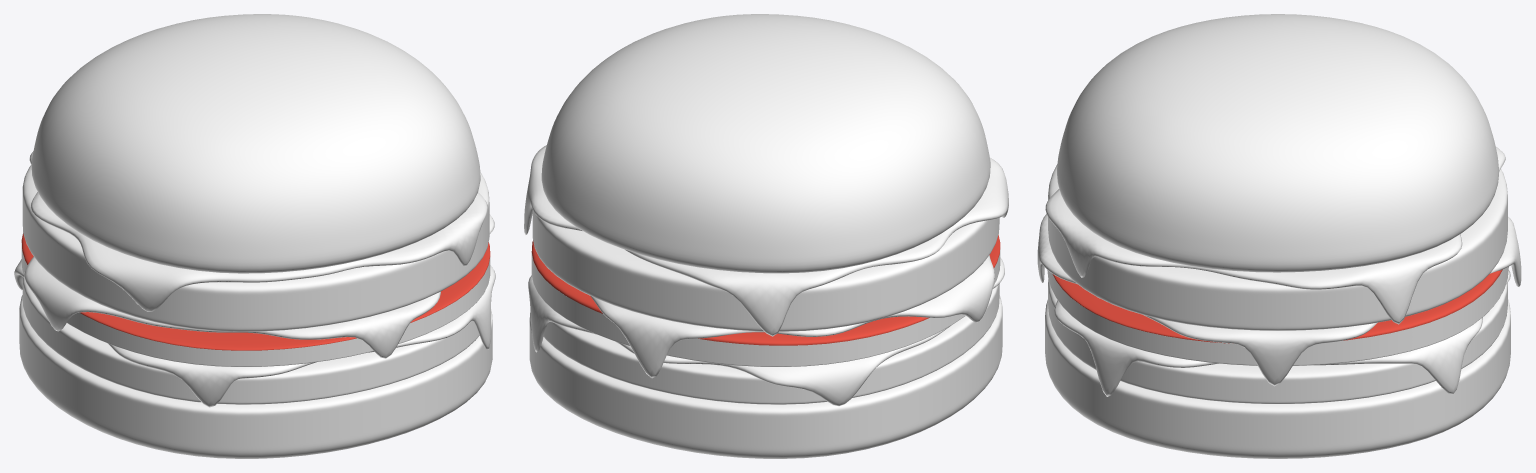
File: Hamburger.glb
The picture shows the model from 3 angles, left to right: view 1: azimuth 30°, elevation 25°; view 2: azimuth 150°, elevation 25°; view 3: azimuth 270°, elevation 25°; orthographic projection.
Parts seen in each view (by area): view 1: Cube.004, Bottom Bun, Meat 2, Meat 1, Tomato, Cheese 2, Cheese 1, Cheese; view 2: Cube.004, Bottom Bun, Meat 2, Meat 1, Tomato, Cheese 2, Cheese 1, Cheese; view 3: Cube.004, Bottom Bun, Meat 2, Tomato, Meat 1, Cheese 2, Cheese 1, Cheese.
Boxes of the visible parts, bbox=[...] form: Cube.004: bbox=[31, 14, 480, 273]; Bottom Bun: bbox=[19, 295, 492, 458]; Meat 2: bbox=[22, 164, 489, 331]; Meat 1: bbox=[22, 277, 479, 404]; Tomato: bbox=[21, 233, 490, 366]; Cheese 2: bbox=[29, 151, 487, 311]; Cheese 1: bbox=[24, 214, 494, 358]; Cheese: bbox=[14, 259, 495, 407]; Cube.004: bbox=[541, 14, 990, 273]; Bottom Bun: bbox=[529, 295, 1002, 458]; Meat 2: bbox=[532, 210, 999, 331]; Meat 1: bbox=[543, 284, 999, 404]; Tomato: bbox=[531, 235, 1000, 366]; Cheese 2: bbox=[524, 145, 1008, 336]; Cheese 1: bbox=[590, 255, 994, 378]; Cheese: bbox=[528, 257, 1004, 406]; Cube.004: bbox=[1057, 14, 1499, 272]; Bottom Bun: bbox=[1045, 299, 1510, 458]; Meat 2: bbox=[1048, 164, 1507, 330]; Tomato: bbox=[1047, 266, 1508, 365]; Meat 1: bbox=[1048, 279, 1507, 403]; Cheese 2: bbox=[1045, 146, 1505, 324]; Cheese 1: bbox=[1037, 214, 1521, 386]; Cheese: bbox=[1054, 270, 1510, 396].
Size of the model in its own units: 0.9445 by 0.6907 by 0.9442.
